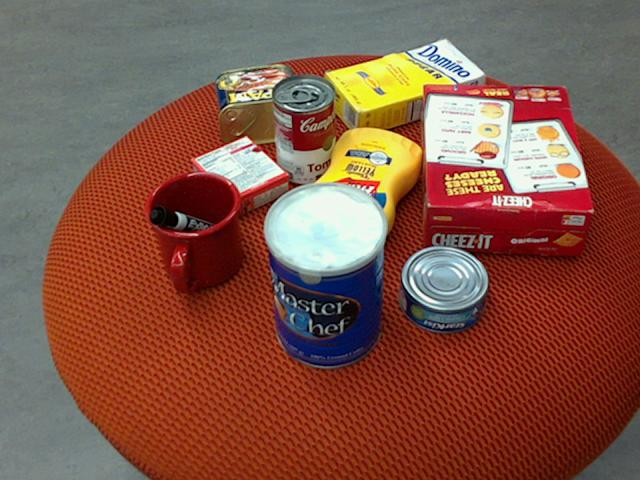cracker_box: (420, 83, 594, 253)
gelatin_box: (189, 134, 287, 219)
large_marker: (147, 207, 232, 245)
master_chef_can: (261, 184, 383, 370)
mug: (142, 172, 243, 294)
mustard_bottle: (300, 127, 423, 271)
potted_meat_can: (216, 63, 309, 146)
sugar_box: (323, 38, 486, 137)
tomato_soup_can: (271, 73, 335, 184)
tuna_fish_can: (399, 245, 490, 333)
